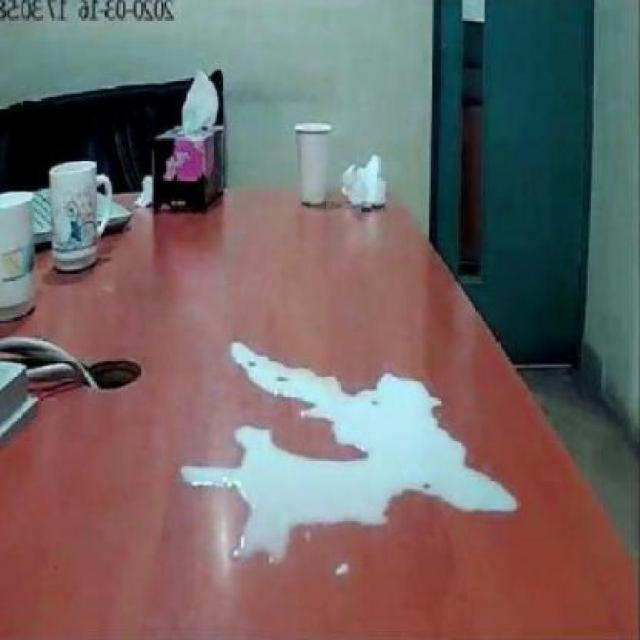spillage: (177, 342, 520, 565)
